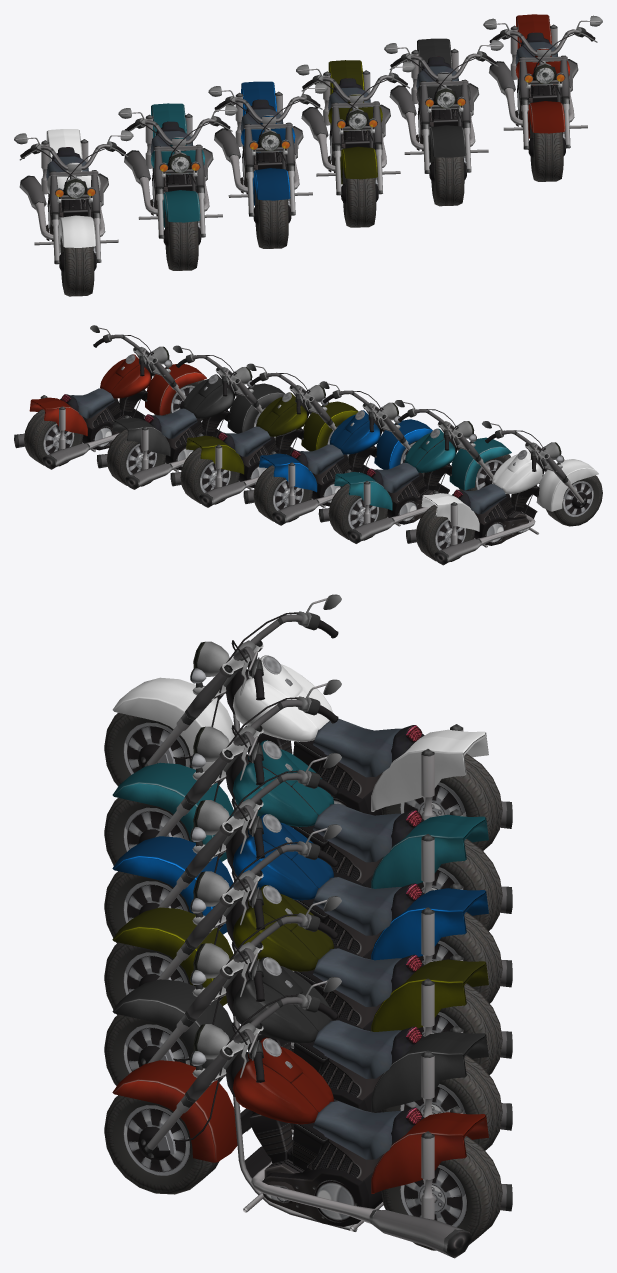
File: Bike_01.fbx
The picture shows the model from 3 angles, top to bottom: view 1: azimuth 30°, elevation 25°; view 2: azimuth 150°, elevation 25°; view 3: azimuth 270°, elevation 25°; orthographic projection. The views are drawn at different scales.
Visible parts, largest first — view 1: Steer_Handle (×6), Body (×6), FrontWheel (×6); view 2: Body (×6), Steer_Handle (×6), BackWheel (×6), FrontWheel (×3); view 3: Body (×6), Steer_Handle (×6), BackWheel (×6), FrontWheel (×6).
Part boxes in pixels (x1,y1,x2,y2): Steer_Handle (×6): (14,15,602,272); Body (×6): (19,14,587,245); FrontWheel (×6): (60,121,563,296); Body (×6): (14,354,544,565); Steer_Handle (×6): (90,325,598,514); BackWheel (×6): (24,409,475,561); FrontWheel (×3): (154,380,602,526); Body (×6): (225,655,512,1258); Steer_Handle (×6): (112,594,341,1162); BackWheel (×6): (381,753,502,1250); FrontWheel (×6): (104,713,219,1194).
Size of the model in its own units: 15.76 by 3.08 by 5.49.
Materials: 2 (2 with a texture image).
